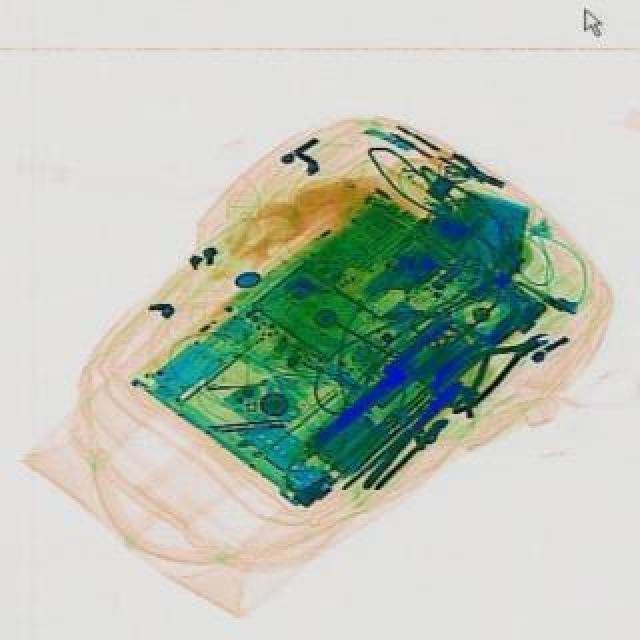wrench: (424, 314, 562, 418)
